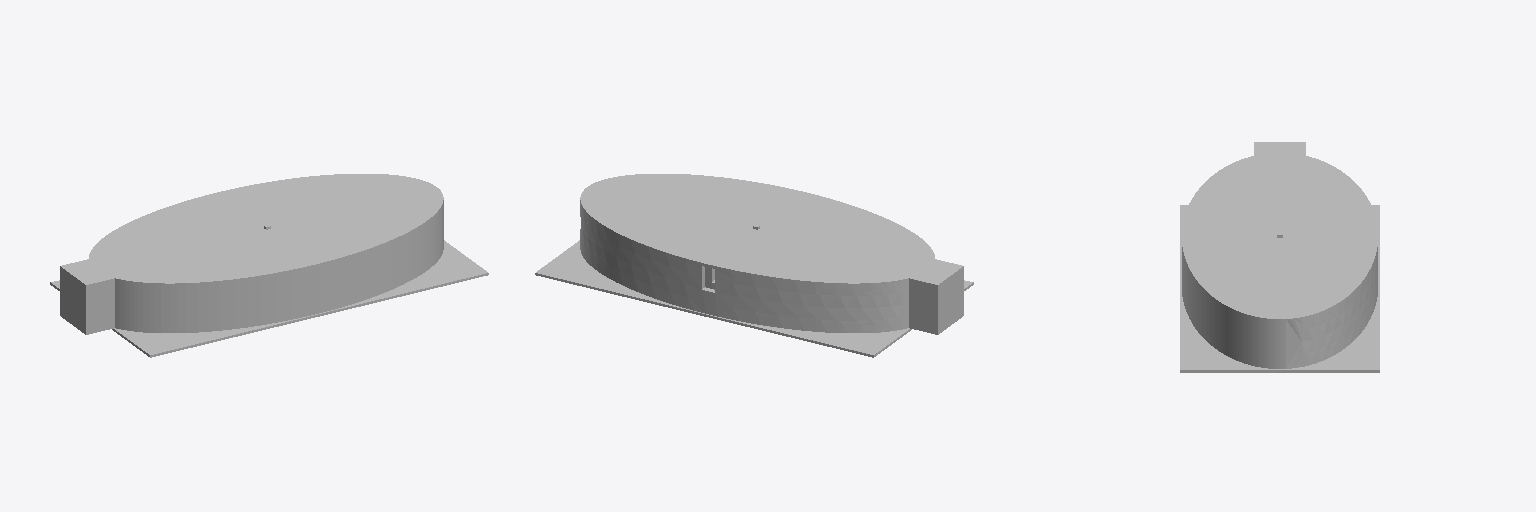
Rendered from uv_arena.obj.
The picture shows the model from 3 angles: view 1: azimuth 30°, elevation 25°; view 2: azimuth 150°, elevation 25°; view 3: azimuth 270°, elevation 25°; orthographic projection.
Parts seen in each view (by area): view 1: arena; view 2: arena; view 3: arena.
Part boxes in pixels (x1,y1,x2,y2): arena: (50,174,488,357); arena: (535,174,973,357); arena: (1180,142,1379,372).
Size of the model in its own units: 161 by 23 by 76.